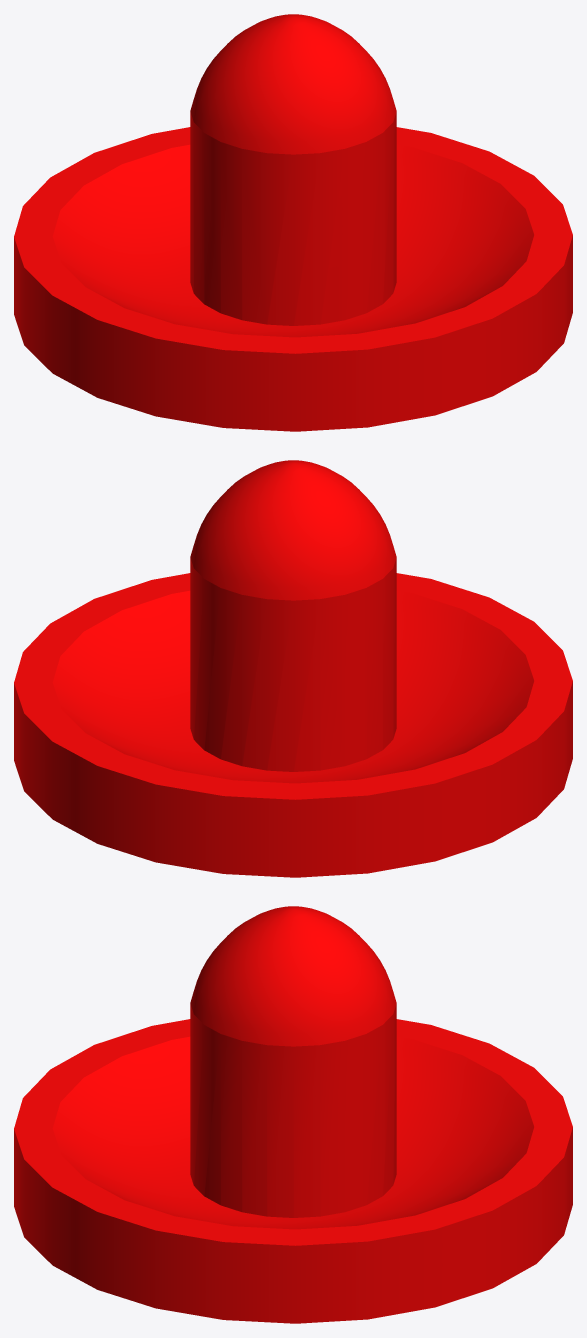
Rendered from Stick.FBX.
3 renders of one model, top to bottom at view 1: azimuth 30°, elevation 25°; view 2: azimuth 150°, elevation 25°; view 3: azimuth 270°, elevation 25°, orthographic.
Visible parts, largest first — view 1: Layer0_001; view 2: Layer0_001; view 3: Layer0_001.
Boxes of the visible parts, x1,y1,x2,y2 form: Layer0_001: (14, 14, 572, 431); Layer0_001: (14, 460, 572, 877); Layer0_001: (14, 906, 572, 1323).
Size of the model in its own units: 206 by 121 by 206.
